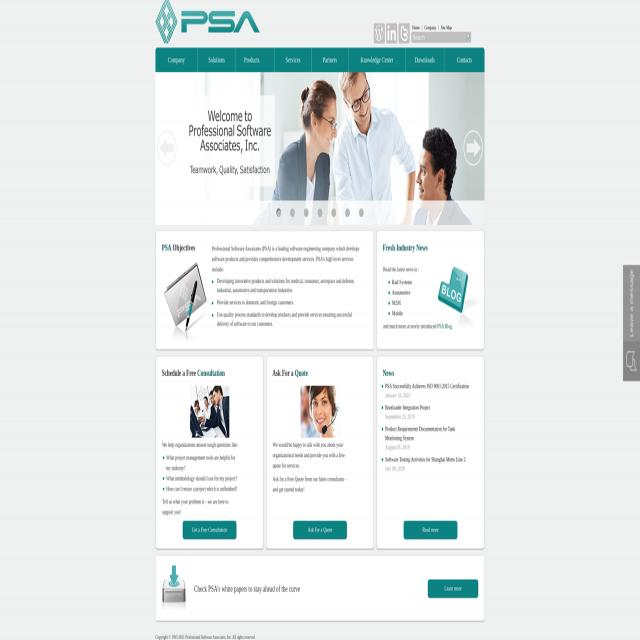button: (156, 0, 260, 44), (623, 264, 640, 383), (348, 48, 406, 72), (438, 267, 468, 313), (156, 48, 198, 72), (293, 521, 347, 539), (444, 48, 484, 72), (183, 521, 236, 539), (404, 521, 457, 539), (198, 48, 236, 72), (236, 48, 274, 72), (274, 48, 312, 72), (406, 48, 444, 72), (428, 580, 478, 598), (312, 48, 348, 72), (157, 130, 177, 166), (463, 130, 483, 165), (387, 23, 398, 43), (398, 23, 409, 43), (374, 23, 384, 43), (275, 207, 282, 218), (330, 207, 337, 218), (344, 207, 351, 218), (304, 207, 310, 218), (317, 207, 323, 218), (290, 208, 296, 218), (358, 208, 364, 218)
field: (411, 32, 471, 43)
